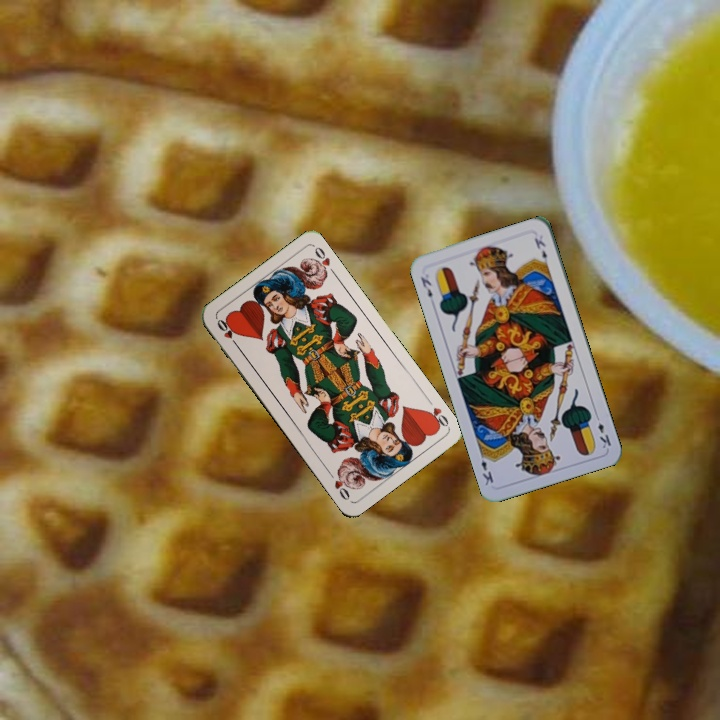EK: (591, 411, 614, 451), (416, 273, 435, 300)
HO: (422, 394, 451, 432), (213, 315, 241, 350)
